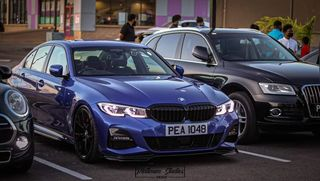License-Plate: (165, 124, 206, 135)
